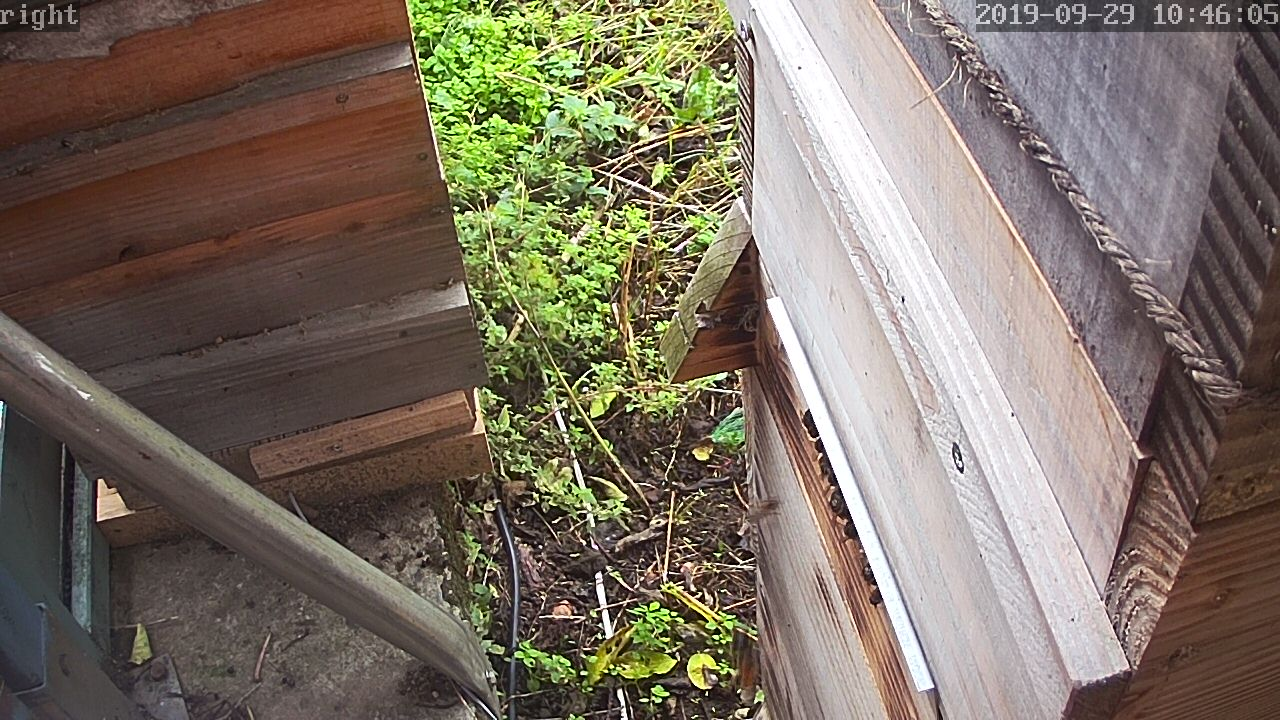bee: (813, 495, 852, 535)
